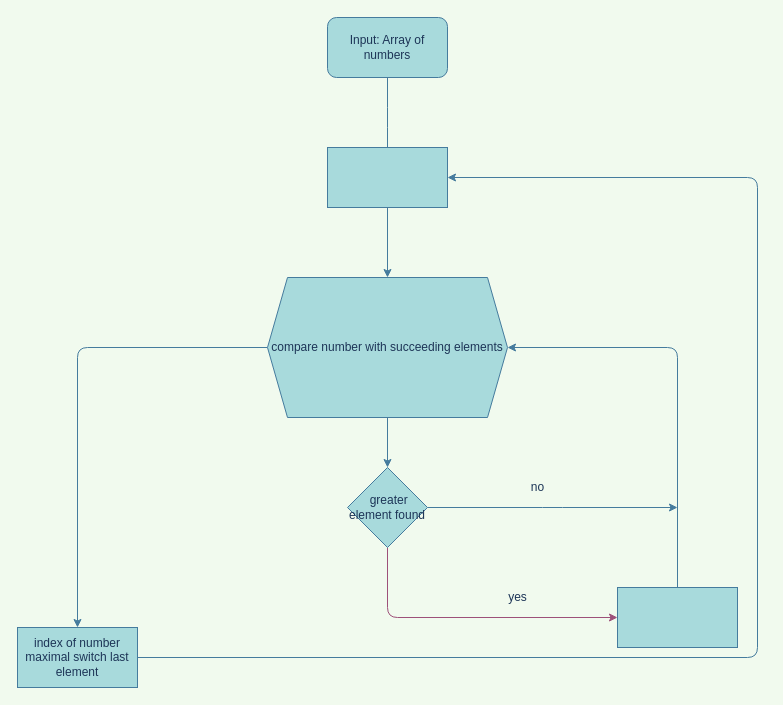
This 783x705 diagram has some shape labels left out. The centre of each missing label's shape, as x and y in pixels:
"store in number and store index of element" belongs at [677,617].
"take first element var number" belongs at [387,177].
